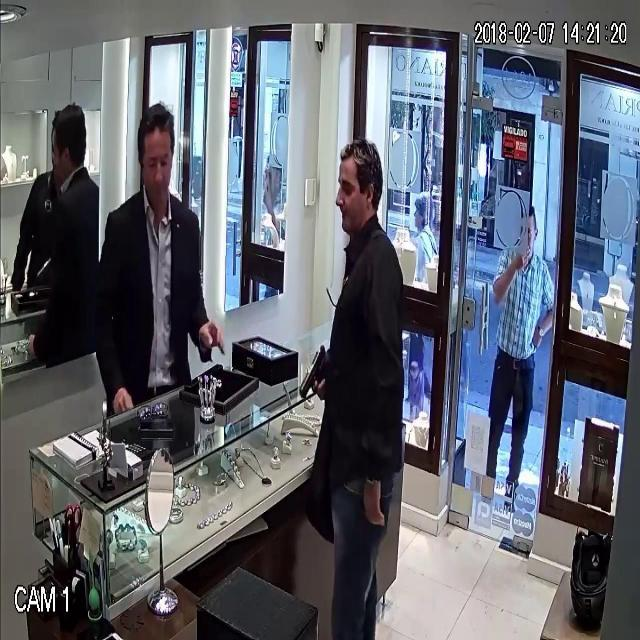weapon: (292, 328, 334, 417)
